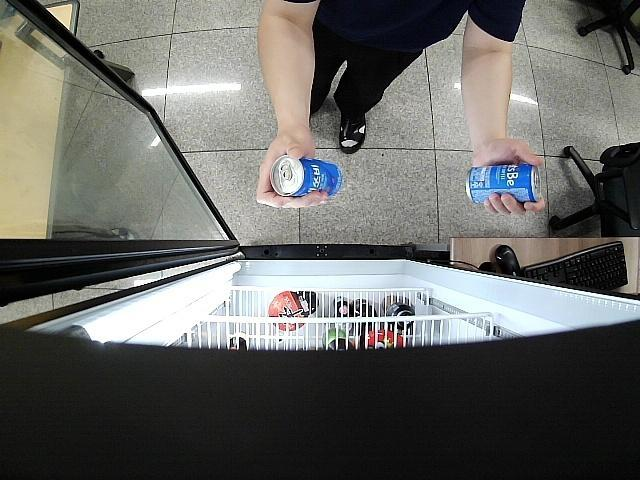15_letsbe: (270, 155, 343, 198), (464, 163, 540, 204)
